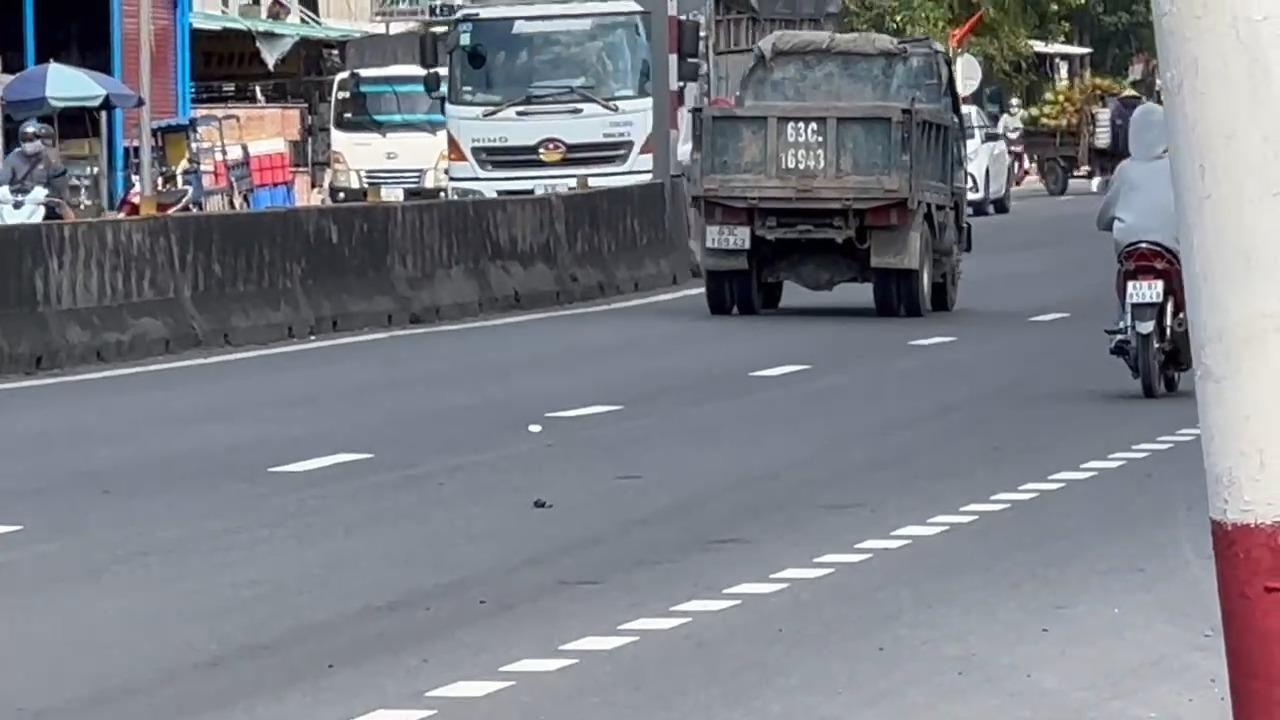bien_so: (703, 223, 751, 250), (1124, 278, 1164, 304)
